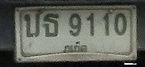txt19: (42, 12, 60, 39)
txt21: (22, 13, 41, 39)
